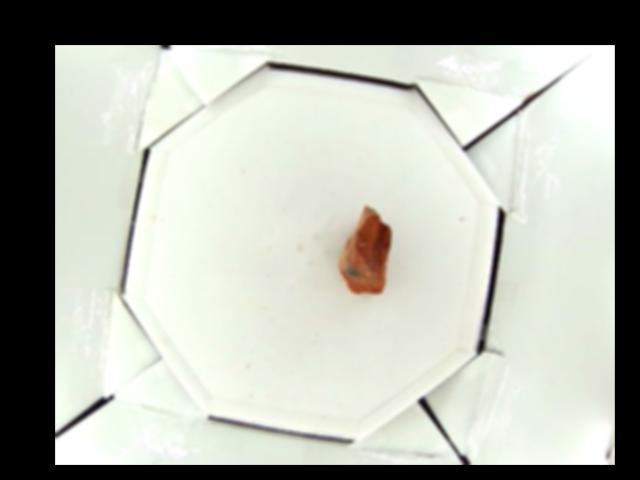Brisk: (338, 206, 391, 294)
